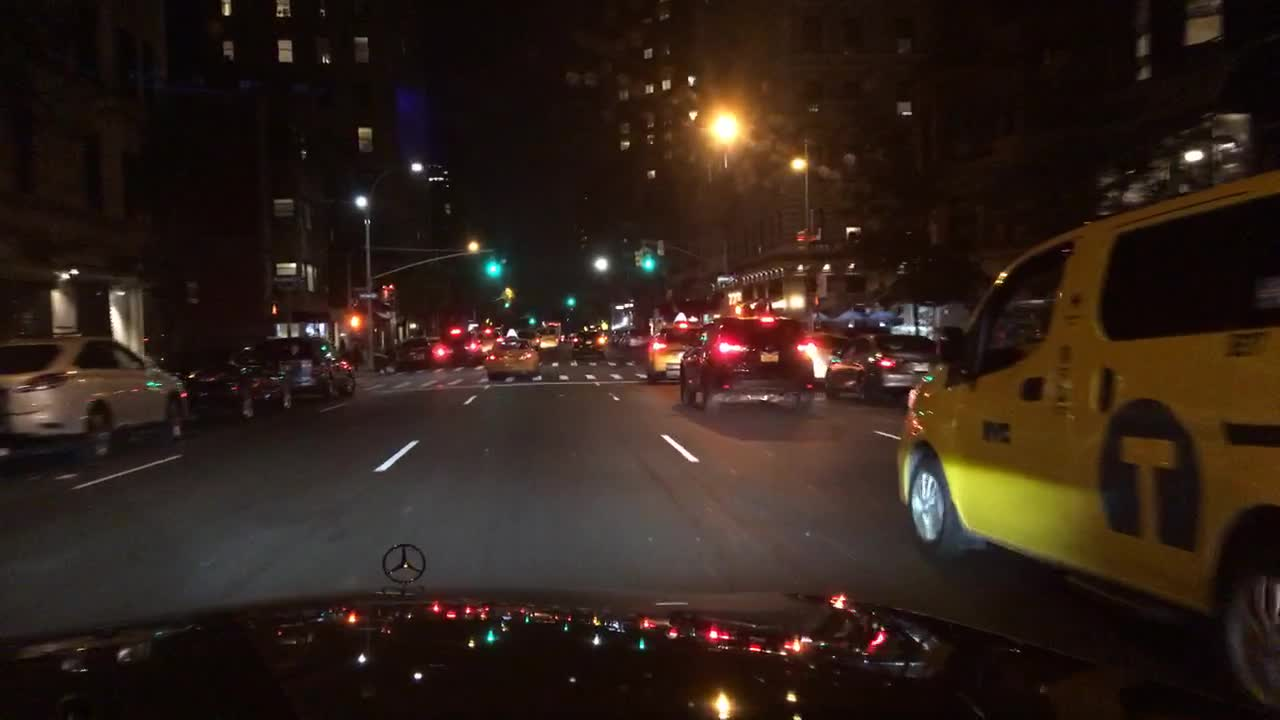car: (891, 165, 1276, 713), (0, 331, 189, 459), (675, 312, 815, 416), (182, 347, 295, 425), (821, 331, 947, 398), (255, 335, 358, 396), (642, 320, 710, 386), (486, 327, 541, 379), (806, 332, 855, 384), (430, 321, 483, 369), (393, 335, 436, 369), (570, 326, 610, 361), (618, 326, 653, 350), (476, 323, 499, 355), (537, 324, 560, 350), (514, 326, 540, 347), (566, 332, 580, 347)
traffic light: (640, 248, 650, 271), (630, 248, 640, 266), (488, 258, 499, 274), (563, 294, 574, 309)
traffic sign: (355, 289, 376, 300)
